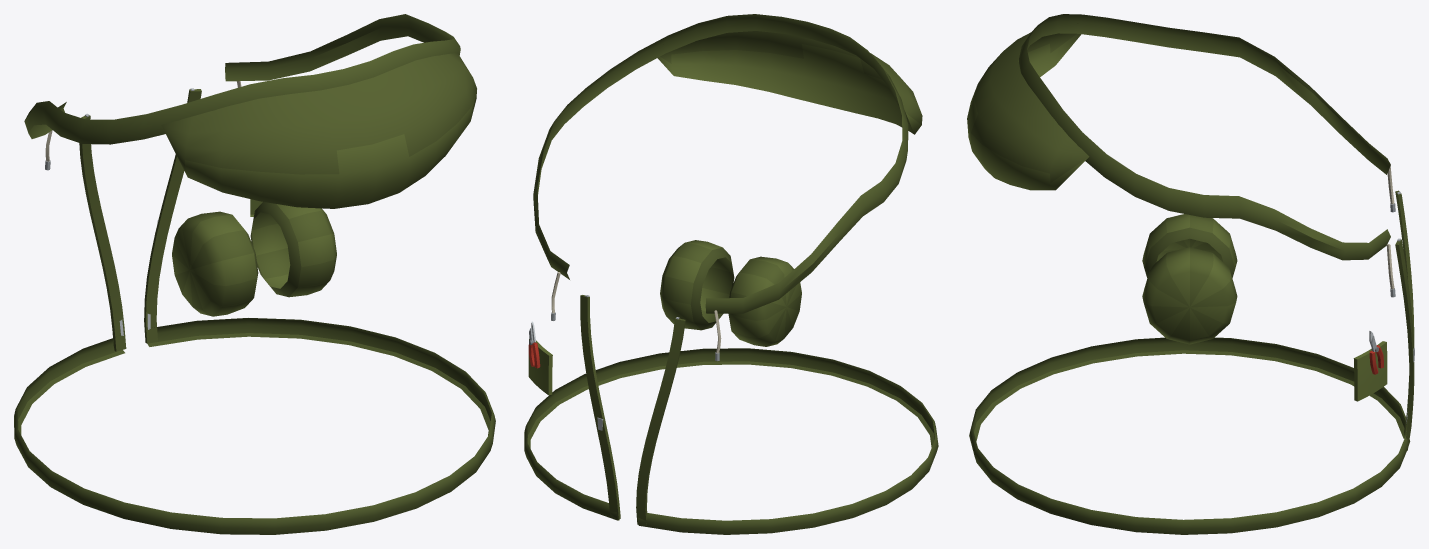
3 renders of one model, left to right at view 1: azimuth 30°, elevation 25°; view 2: azimuth 150°, elevation 25°; view 3: azimuth 270°, elevation 25°, orthographic. The views are drawn at different scales.
Parts seen in each view (by area): view 1: u_windbreaker, u_windbreaker_cuff_R, u_windbreaker_cuff_L; view 2: u_windbreaker, u_windbreaker_cuff_L, u_windbreaker_cuff_R; view 3: u_windbreaker, u_windbreaker_cuff_L, u_windbreaker_cuff_R.
Boxes of the visible parts, x1,y1,x2,y2 form: u_windbreaker: (14,14,495,534); u_windbreaker_cuff_R: (172,211,258,316); u_windbreaker_cuff_L: (250,202,336,297); u_windbreaker: (524,14,938,534); u_windbreaker_cuff_L: (660,240,734,330); u_windbreaker_cuff_R: (728,256,801,346); u_windbreaker: (967,14,1414,534); u_windbreaker_cuff_L: (1142,247,1237,344); u_windbreaker_cuff_R: (1142,214,1237,277).
Bounding box in the file's own units: 1.05 × 1.03 × 1.06.
